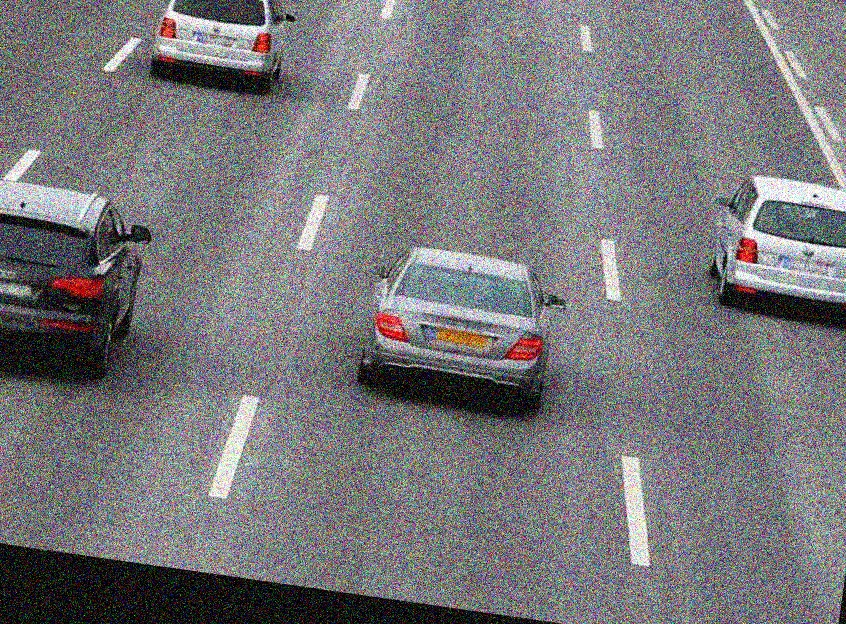car: (356, 223, 583, 423), (0, 154, 155, 402), (703, 154, 846, 333), (135, 0, 311, 99)
